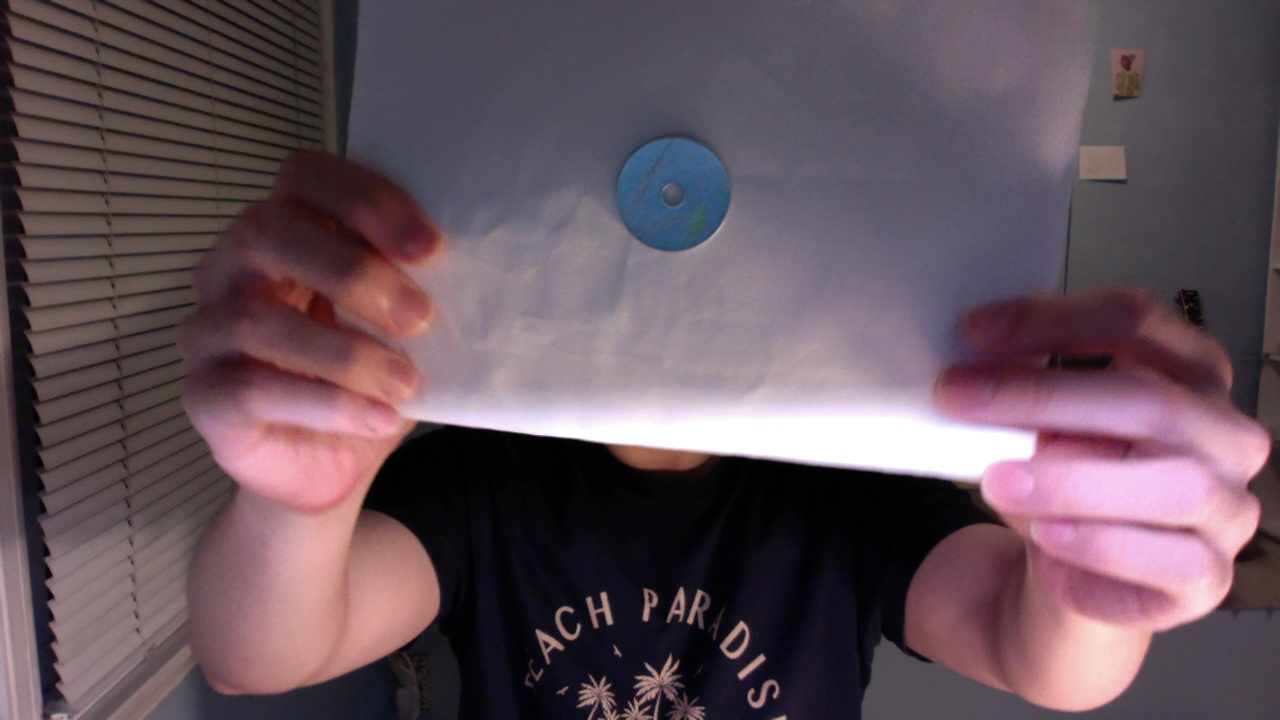DetectiveWashers: (626, 136, 713, 242)
